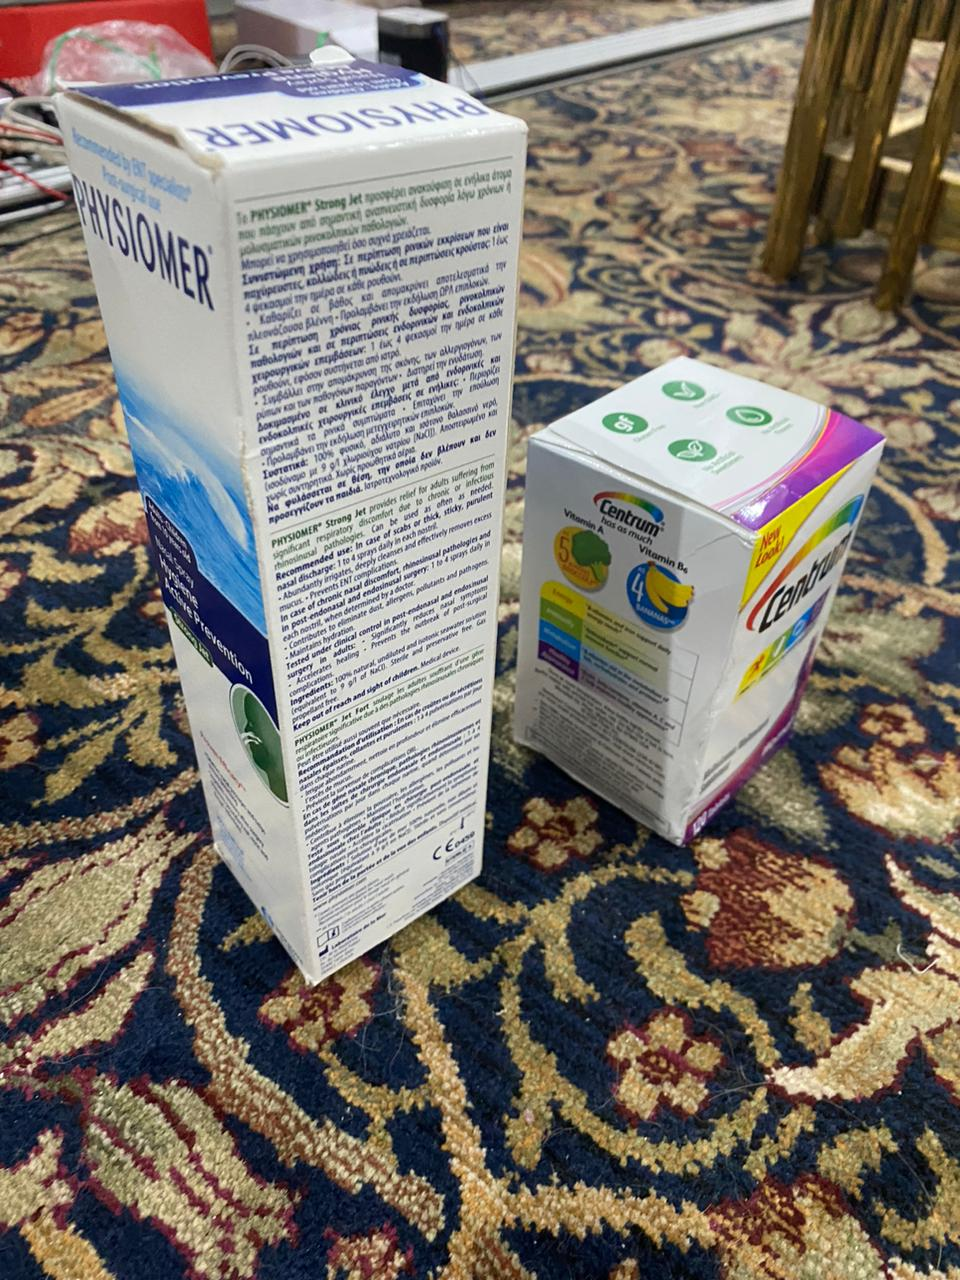Centrum: (510, 335, 886, 849)
Physiomer: (57, 59, 493, 989)
